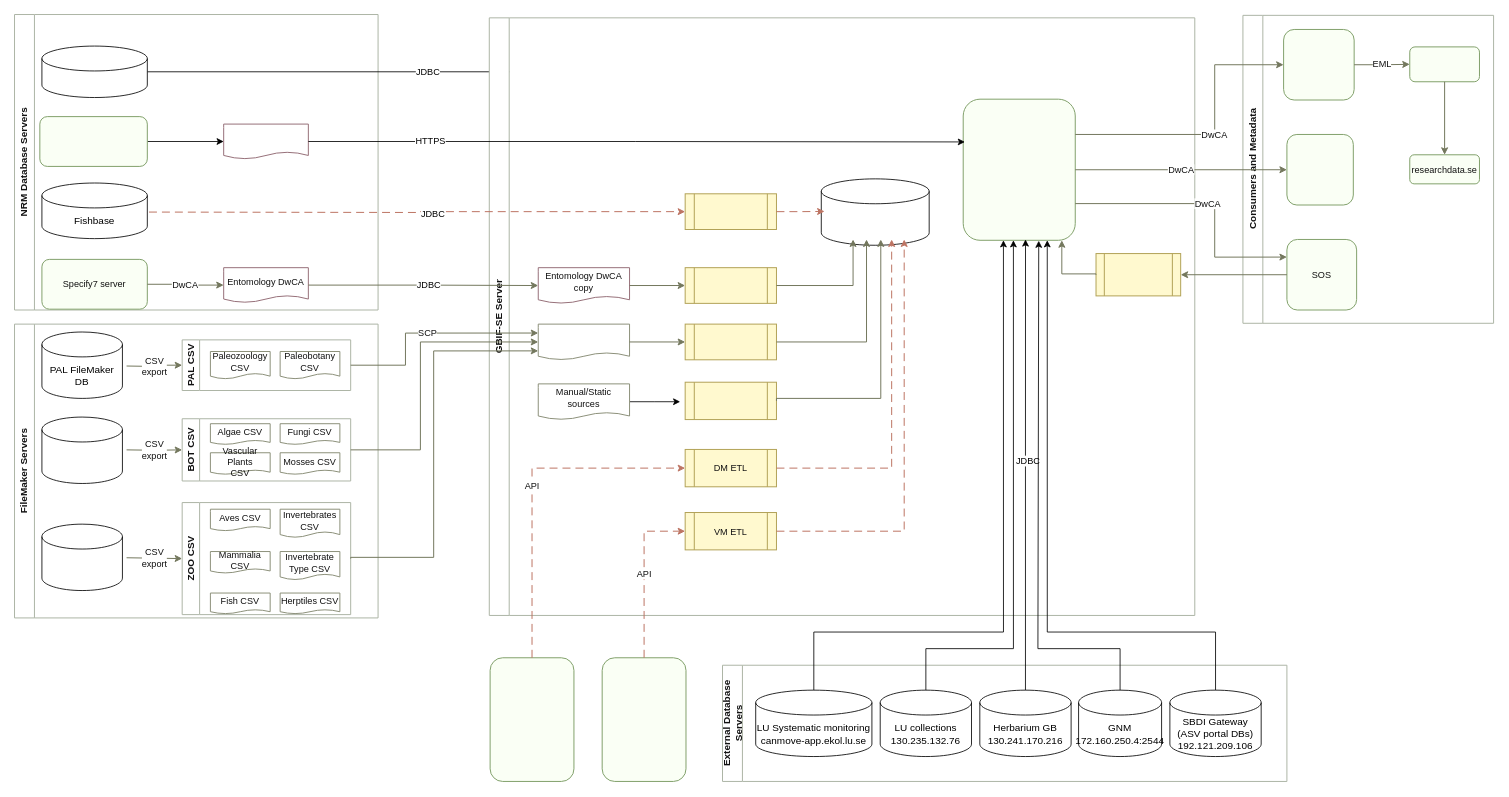
This 1509x797 diagram has some shape labels left out. The centre of each missing label's shape, as x and y in pixels:
"Birdringing Center" belongs at point 94,71.
"BOT FileMaker DB" belongs at point 81,449.
"CSV ETL" belongs at point 730,341.
"Custom/Manual ETL" belongs at point 730,400.
"Datacite API" belongs at point 1444,64.
"digitaltmuseum" belongs at point 531,719.
"DwC CSV" belongs at point 265,141.
"DwCA ETL" belongs at point 730,285.
"Fishbase ETL" belongs at point 730,211.
"GBIF.org" belongs at point 1318,64.
"IPT" belongs at point 1018,169.
"Local CSV copy" belongs at point 583,341.
"Marinadaggdjur server" belongs at point 93,141.
"MySQL" belongs at point 874,211.
"SBDI" belongs at point 1319,169.
"SOS DwCA Harvester" belongs at point 1138,274.
"virtuellaherbariet" belongs at point 643,719.
"ZOO FileMaker DB" belongs at point 81,557.
